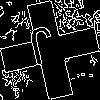J: (25, 25, 61, 76)
